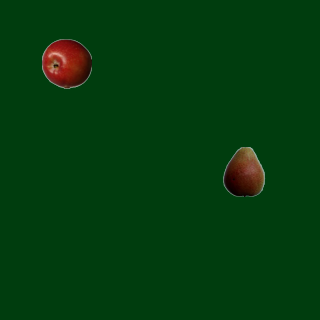Apple Braeburn: (41, 38, 91, 88)
Pear Forelle: (218, 146, 268, 196)
